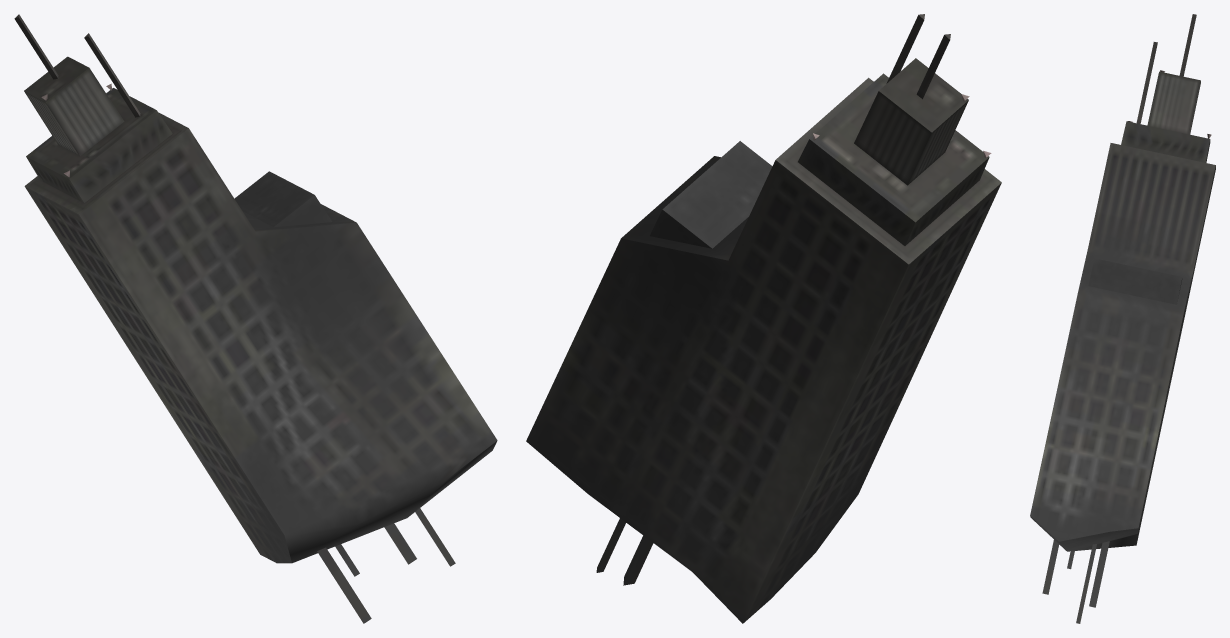
Rendered from skyBuildingAAB_pos_grp (25).fbx.
The picture shows the model from 3 angles, left to right: view 1: azimuth 30°, elevation 25°; view 2: azimuth 150°, elevation 25°; view 3: azimuth 270°, elevation 25°; orthographic projection. The views are drawn at different scales.
Visible parts, largest first — view 1: skyBuildingAAB_geo; view 2: skyBuildingAAB_geo; view 3: skyBuildingAAB_geo.
Boxes of the visible parts, bbox=[...] form: skyBuildingAAB_geo: bbox=[14, 14, 497, 623]; skyBuildingAAB_geo: bbox=[526, 14, 1001, 623]; skyBuildingAAB_geo: bbox=[1030, 14, 1215, 623].
Bounding box in the file's own units: 9.11 × 13.31 × 4.65.
